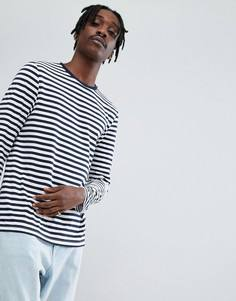striped: (2, 58, 120, 250)
